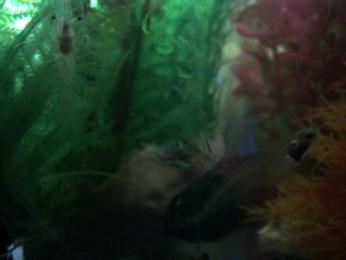glassfish: (186, 125, 323, 229)
siberian prawn: (47, 1, 83, 105)
